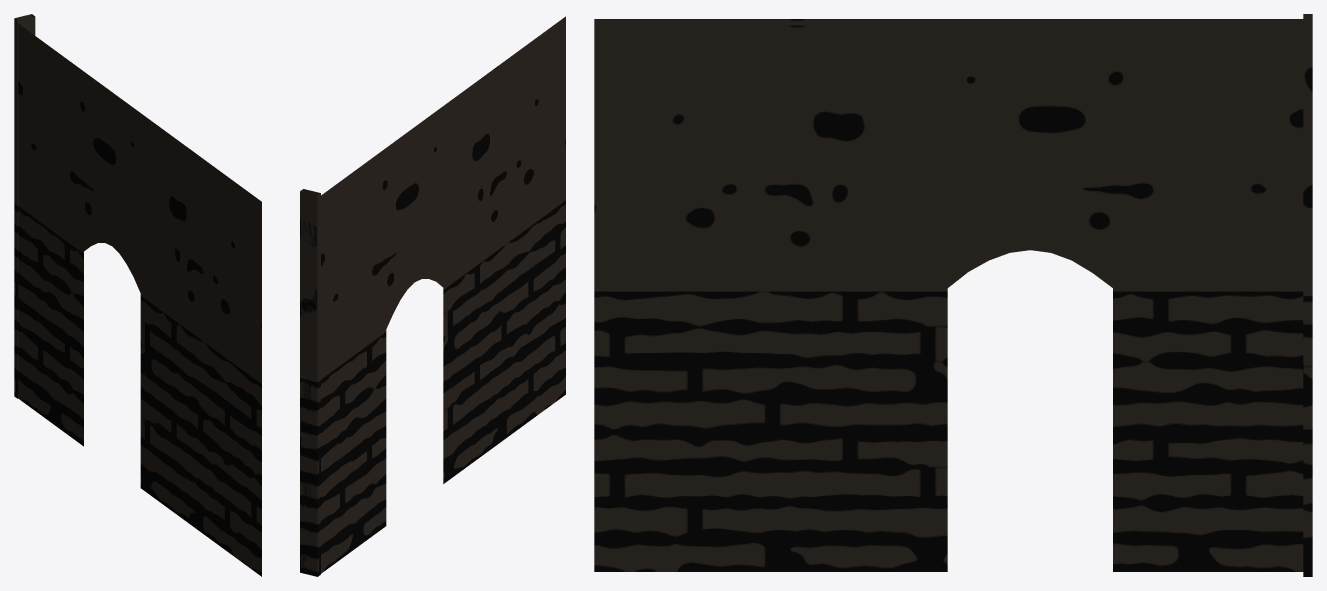
File: WallDoorway_Captain.fbx
3 renders of one model, left to right at view 1: azimuth 30°, elevation 25°; view 2: azimuth 150°, elevation 25°; view 3: azimuth 270°, elevation 25°, orthographic. The views are drawn at different scales.
Parts seen in each view (by area): view 1: Doorway_Captain; view 2: Doorway_Captain; view 3: Doorway_Captain.
Part boxes in pixels (<box>): Doorway_Captain: <box>14,14,261,576</box>; Doorway_Captain: <box>300,16,565,576</box>; Doorway_Captain: <box>594,14,1312,576</box>.
Bounding box in the file's own units: 0.488 × 10.08 × 11.92.
